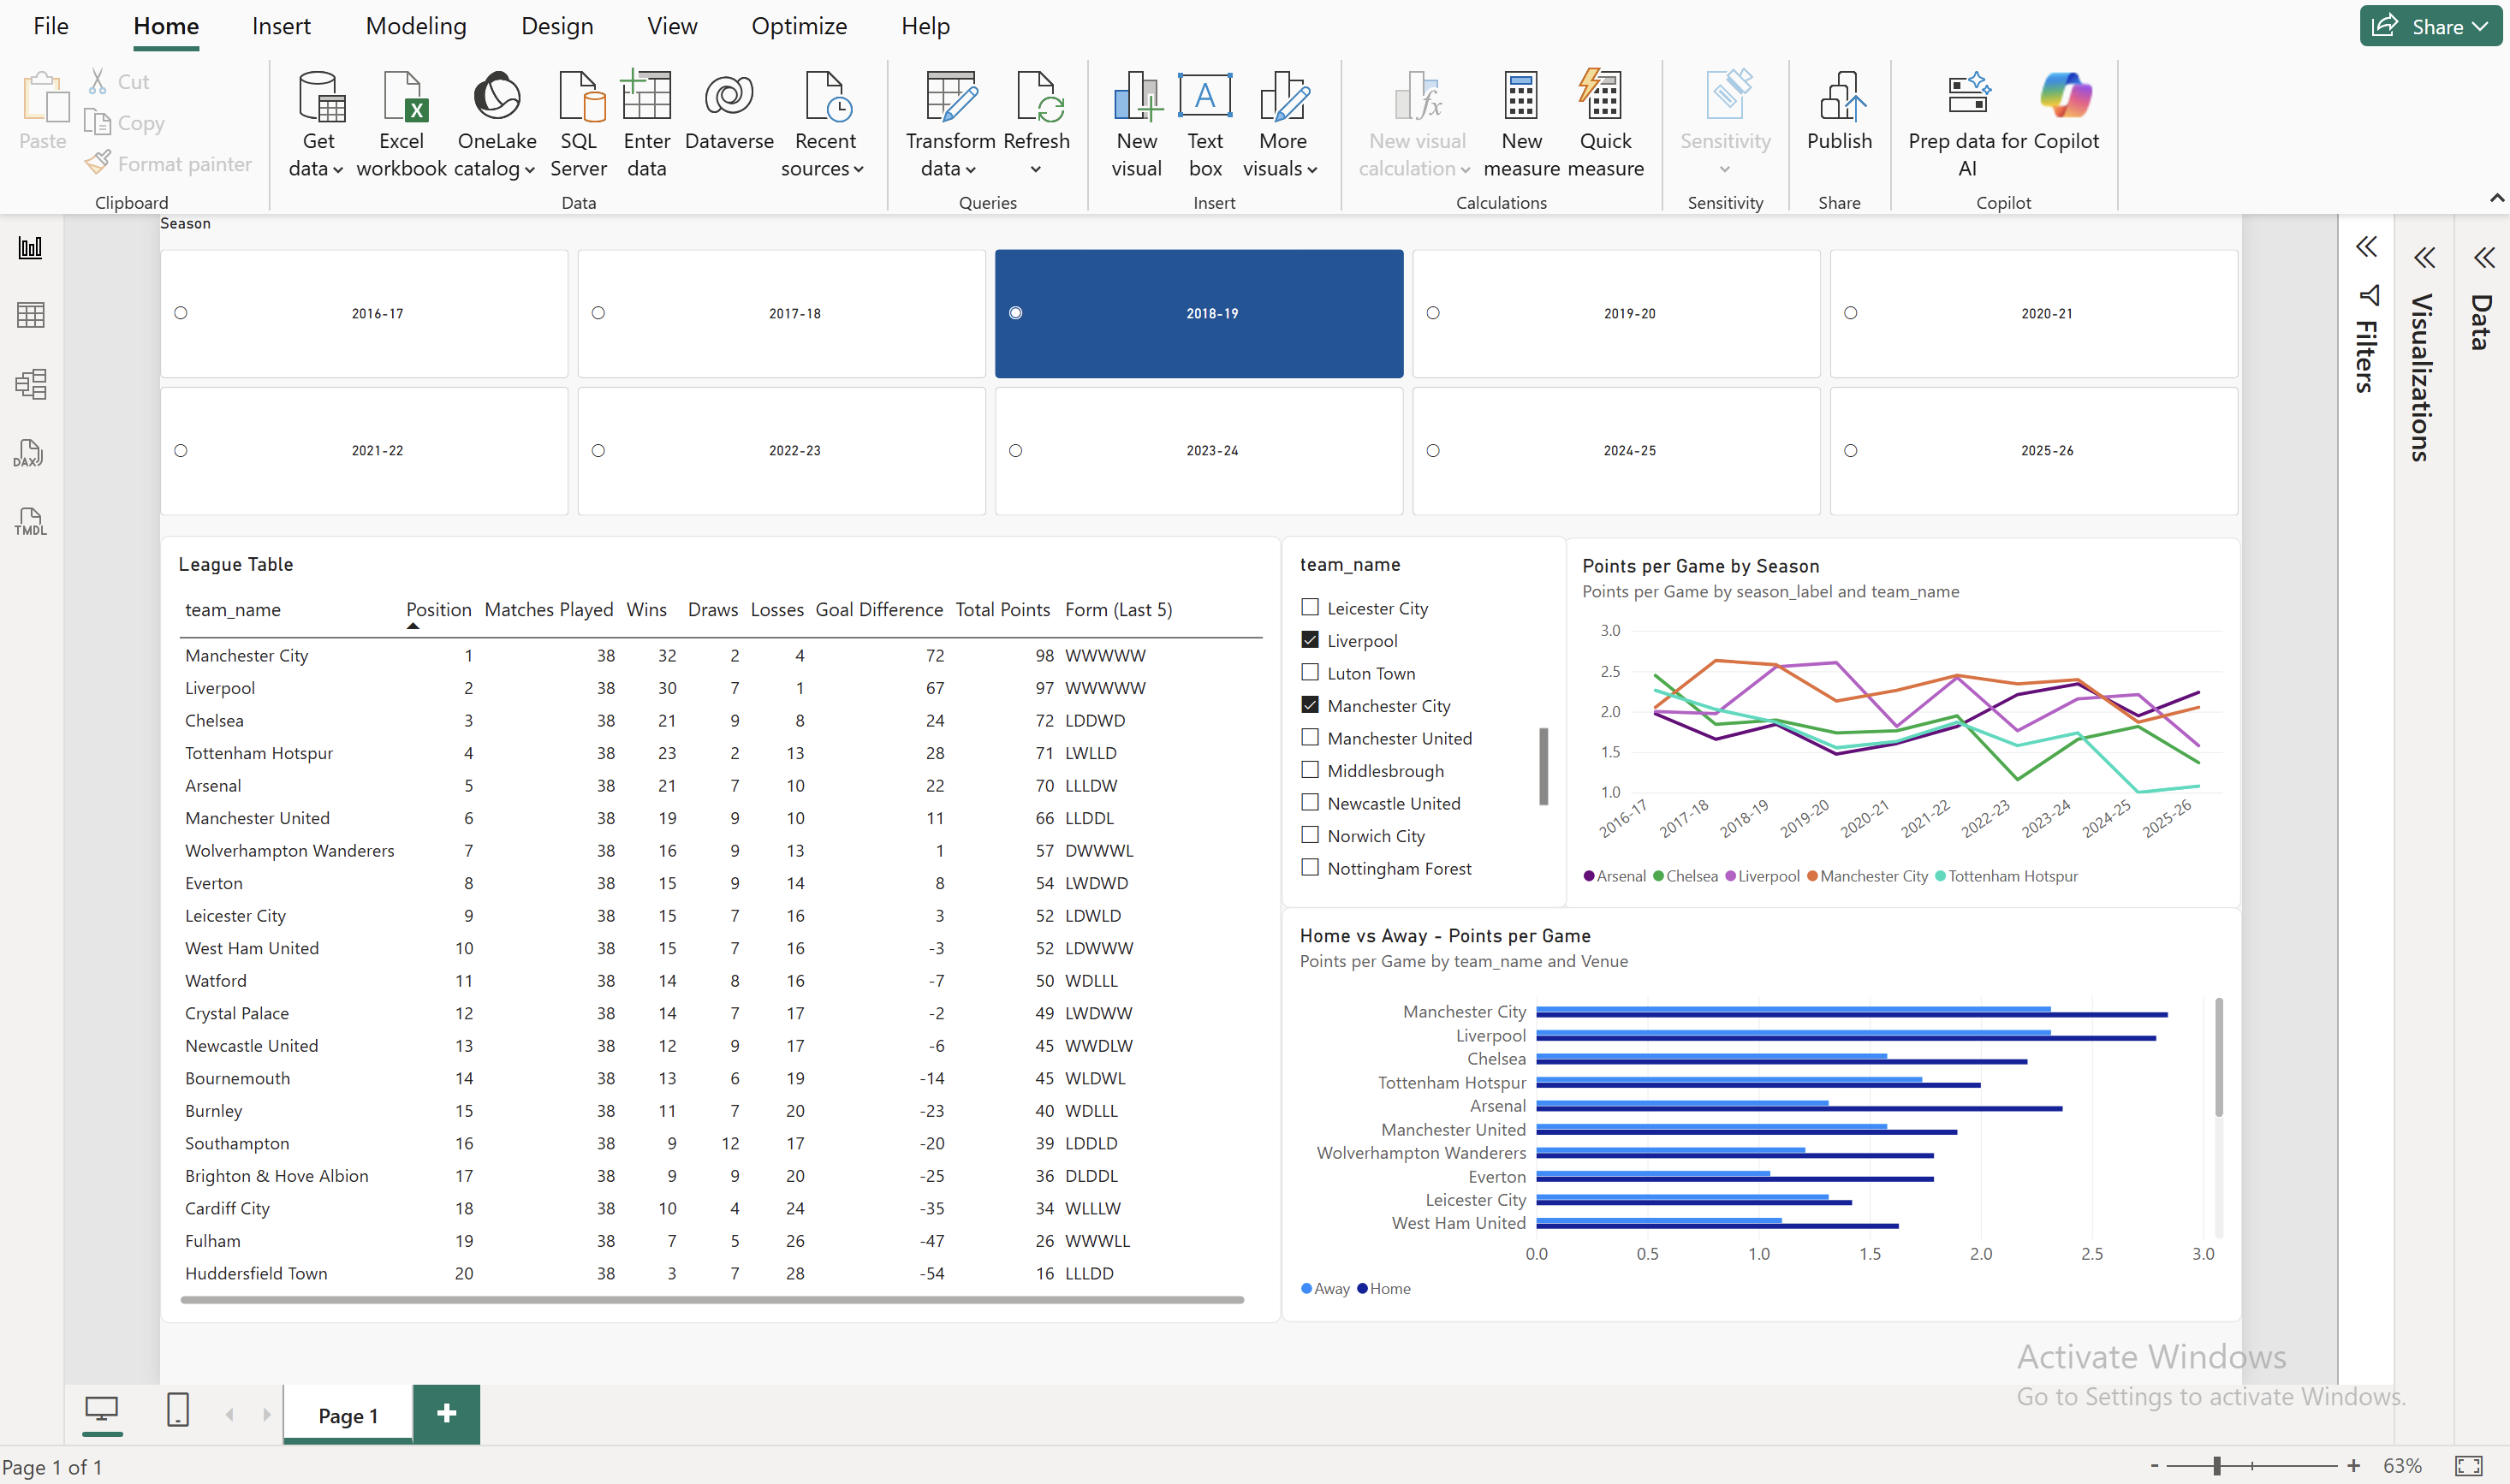

The page's visual inventory and layout, read from the dashboard file:
{"tool":"powerbi","page":{"name":"Page 1","canvas":[1920,1080],"ordinal":0},"visuals":[{"type":"advancedSlicerVisual","title":"Season","fields":{"Values":["dim_season.season_label"]},"box":[0,0,1920,279.5],"z":0},{"type":"tableEx","title":"League Table","fields":{"Values":["dim_team.team_name","_Measures.Position","_Measures.Matches Played","_Measures.Wins","_Measures.Draws","_Measures.Losses","_Measures.Goal Difference","_Measures.Total Points","_Measures.Form (Last 5)"]},"box":[0,296.7,1034.2,726.4],"z":1},{"type":"lineChart","title":"Points per Game by Season","fields":{"Category":["dim_season.season_label"],"Series":["dim_team.team_name"],"Y":["_Measures.Points per Game"]},"box":[1295.5,299,624.5,343.3],"z":2},{"type":"listSlicer","fields":{"Values":["dim_team.team_name"]},"box":[1034.2,296.7,263.5,343.3],"z":3},{"type":"clusteredBarChart","title":"Home vs Away - Points per Game","fields":{"Category":["dim_team.team_name"],"Series":["fact_team_match.Venue"],"Y":["_Measures.Points per Game"]},"box":[1034.2,640,885.8,383.1],"z":4}]}

Visuals, with their boxes on the page's 1920x1080 design canvas (x1, y1, x2, y2). These are canvas units, not pixel positions in the 2510x1484 screenshot, which may show the page scaled, cropped or inside an application window:
"Season" advancedSlicerVisual: 0 0 1920 280
"League Table" tableEx: 0 297 1034 1023
"Points per Game by Season" lineChart: 1296 299 1920 642
listSlicer - dim_team.team_name: 1034 297 1298 640
"Home vs Away - Points per Game" clusteredBarChart: 1034 640 1920 1023
